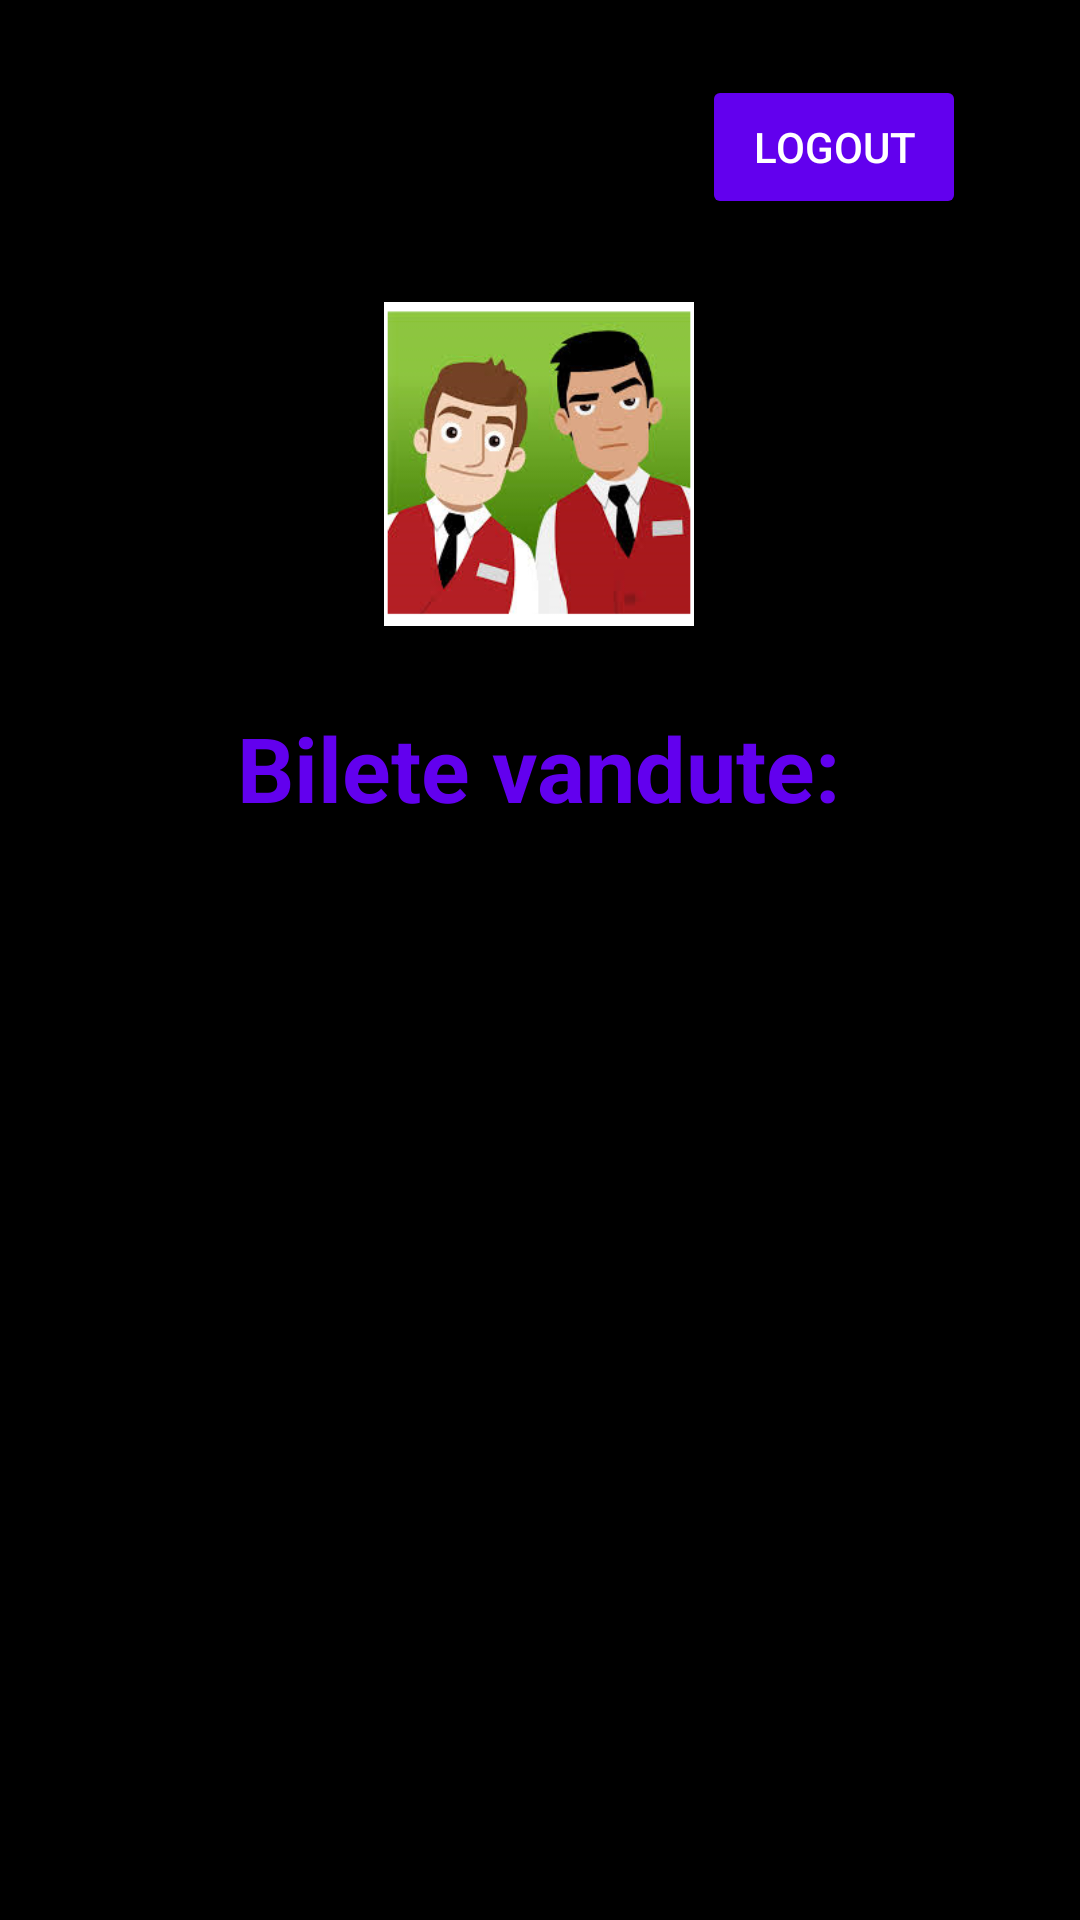

Icons on this 1080px x 1920px Android screen, each with the point to tap as (x,y):
angajat: (539,464)
